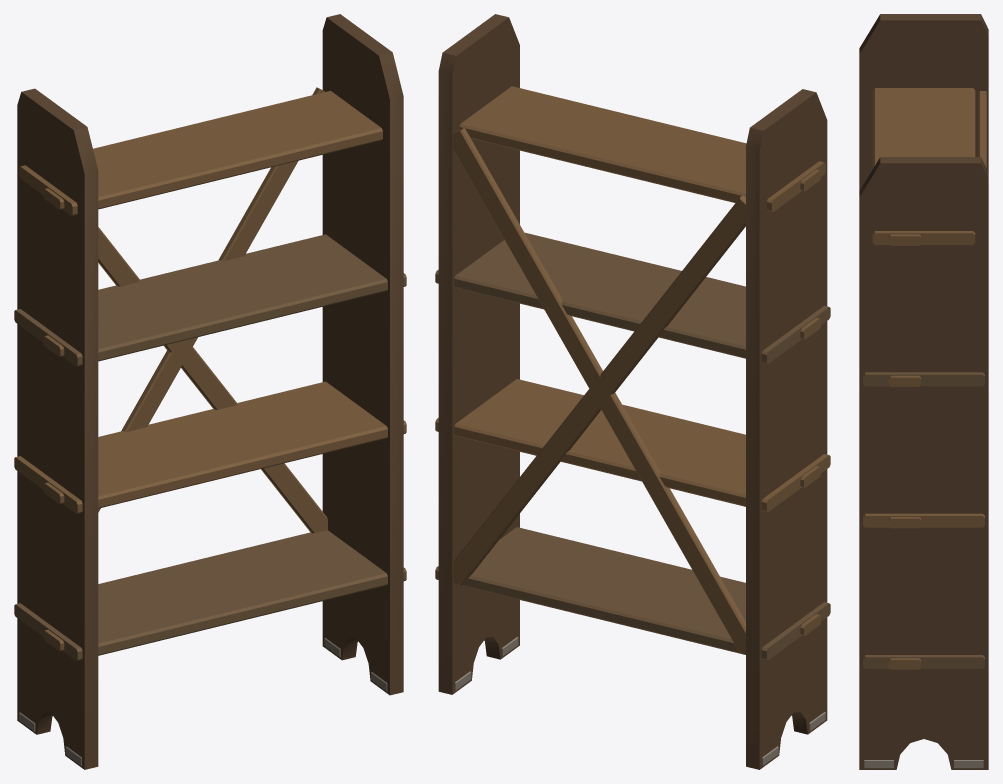
Rendered from SM_LPD_Furn_ShelfPlank_01.fbx.
3 renders of one model, left to right at view 1: azimuth 30°, elevation 25°; view 2: azimuth 150°, elevation 25°; view 3: azimuth 270°, elevation 25°, orthographic. The views are drawn at different scales.
Parts seen in each view (by area): view 1: SM_LPD_Furn_ShelfPlank_01; view 2: SM_LPD_Furn_ShelfPlank_01; view 3: SM_LPD_Furn_ShelfPlank_01.
Boxes of the visible parts, x1,y1,x2,y2 form: SM_LPD_Furn_ShelfPlank_01: [14, 14, 406, 769]; SM_LPD_Furn_ShelfPlank_01: [435, 14, 830, 769]; SM_LPD_Furn_ShelfPlank_01: [859, 14, 988, 769].
Bounding box in the file's own units: 0.982 × 1.76 × 0.34.
